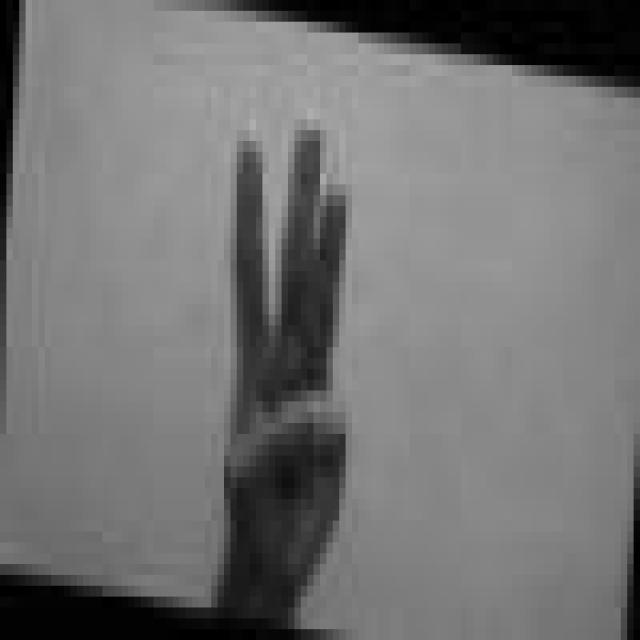W: (208, 98, 362, 586)
